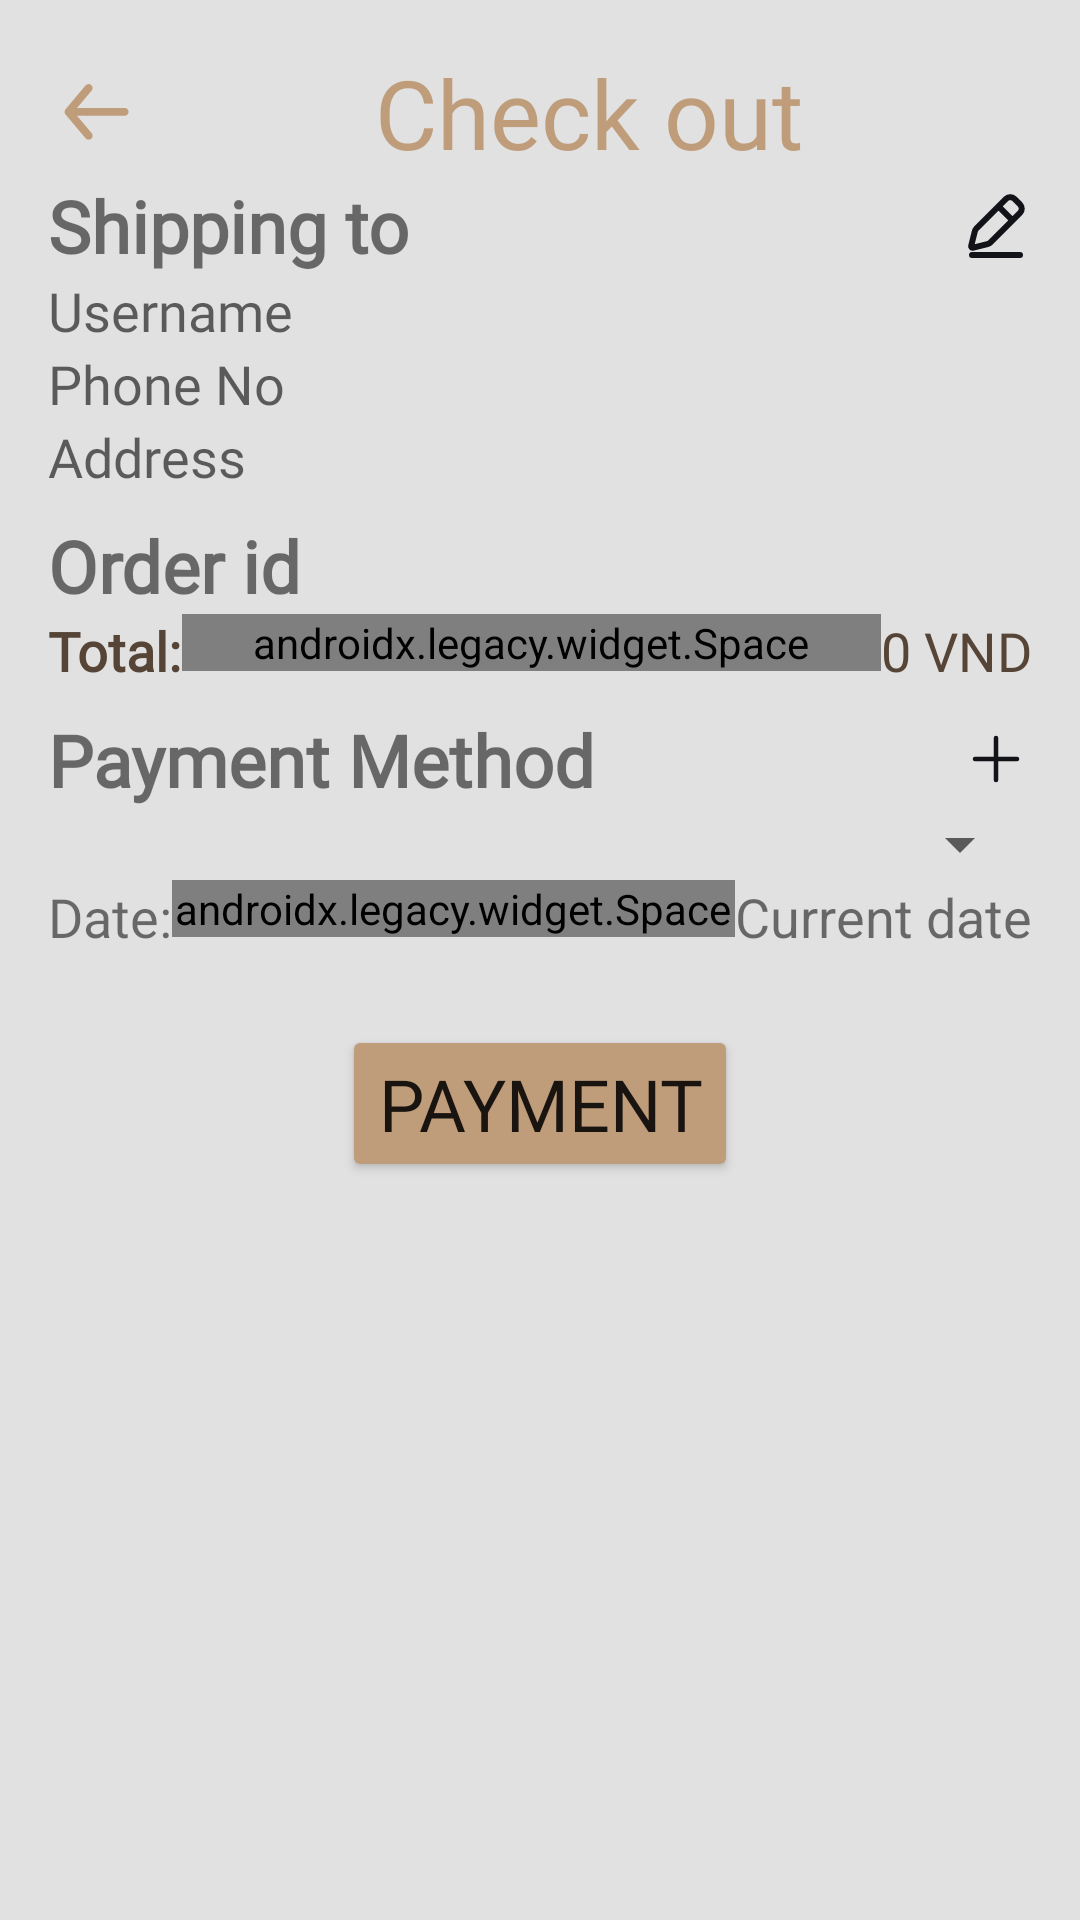

Named icons in this screenshot (1080 x 1920) and their bounding boxes, (x1, y1, x2, y2):
back: (64, 84, 129, 140)
